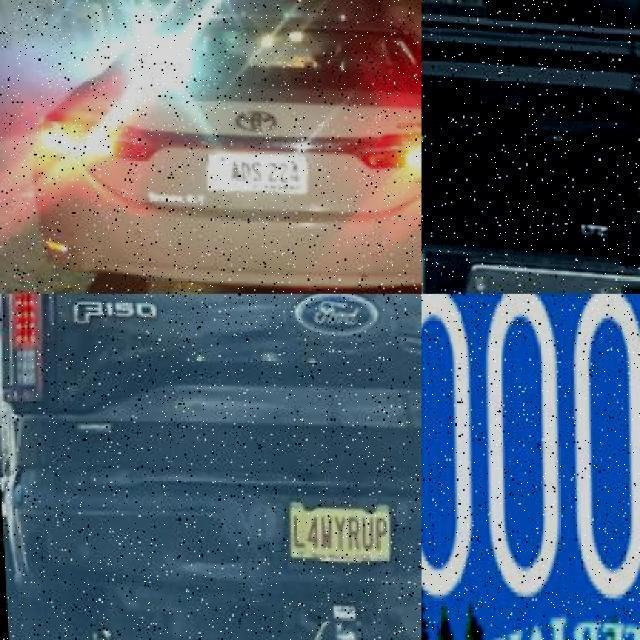LicensePlate: (421, 293, 640, 612), (280, 498, 386, 567), (191, 150, 325, 204)
